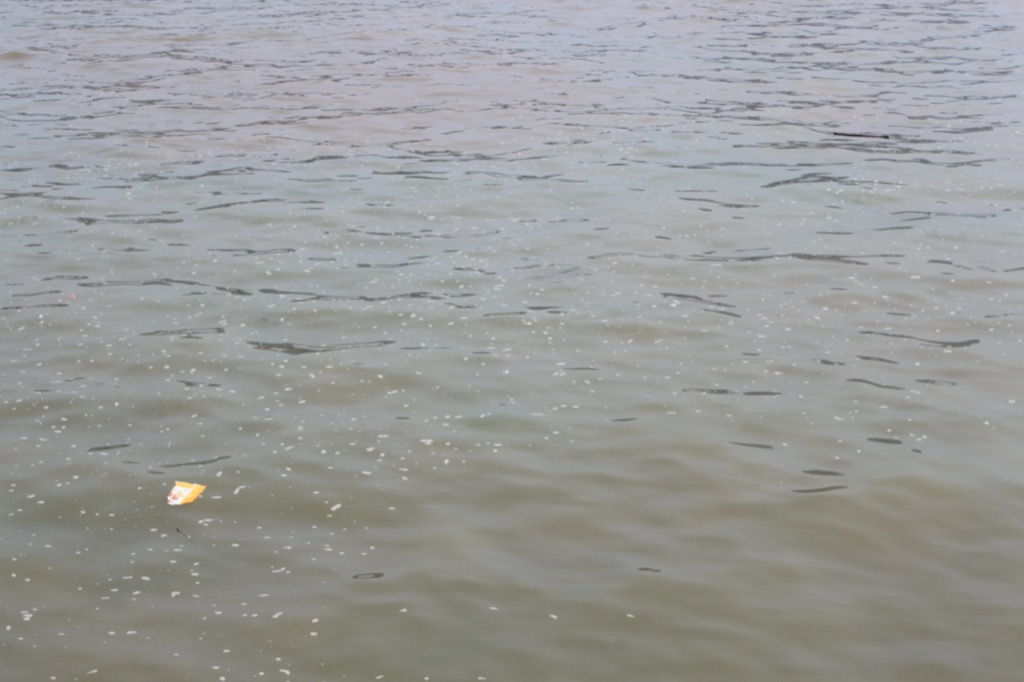plastic: (161, 477, 214, 511)
